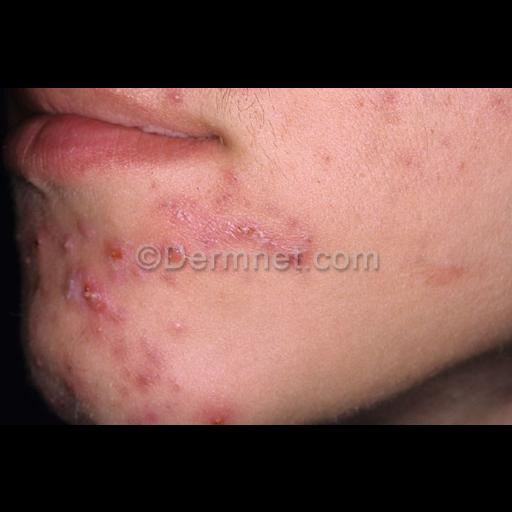Skin_Lesion: (66, 268, 108, 312), (232, 216, 272, 250), (160, 198, 194, 226), (158, 238, 188, 268), (130, 368, 158, 394), (204, 224, 224, 258), (74, 216, 98, 244), (104, 243, 128, 267), (286, 244, 308, 270), (33, 276, 53, 298), (142, 344, 164, 364), (380, 90, 402, 108), (90, 320, 106, 340), (454, 262, 474, 278), (211, 412, 233, 424), (132, 264, 146, 282), (454, 159, 472, 173), (168, 90, 184, 104), (42, 222, 58, 236), (144, 410, 162, 422), (66, 382, 80, 396), (239, 194, 253, 208), (224, 174, 240, 186), (170, 319, 186, 331), (490, 96, 506, 108), (170, 380, 182, 394), (34, 353, 46, 367), (148, 182, 162, 194), (30, 236, 46, 246), (406, 154, 416, 170), (306, 232, 318, 244), (60, 238, 72, 250), (289, 218, 301, 228), (214, 196, 230, 202), (322, 153, 332, 161)
